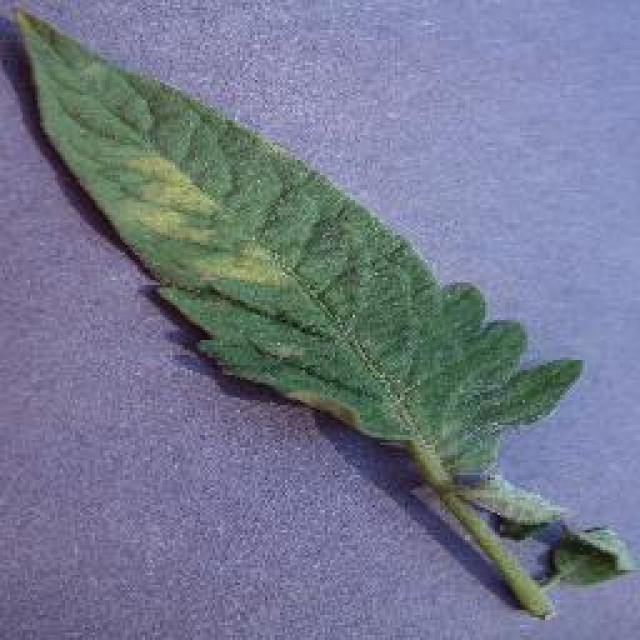Tomato mold leaf: (9, 5, 587, 472)
